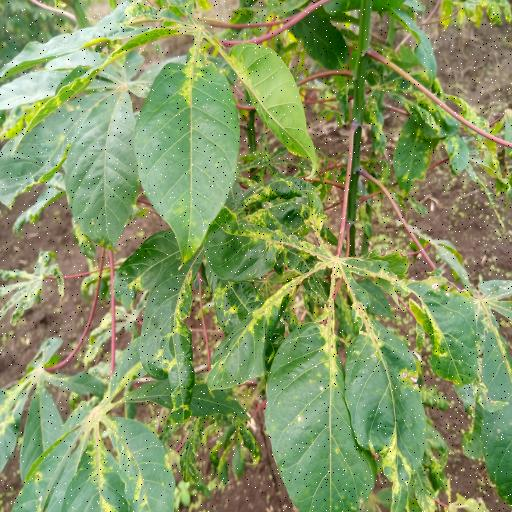Cassava_Mosaic: (211, 218, 512, 511), (12, 0, 324, 248), (26, 372, 259, 510)
